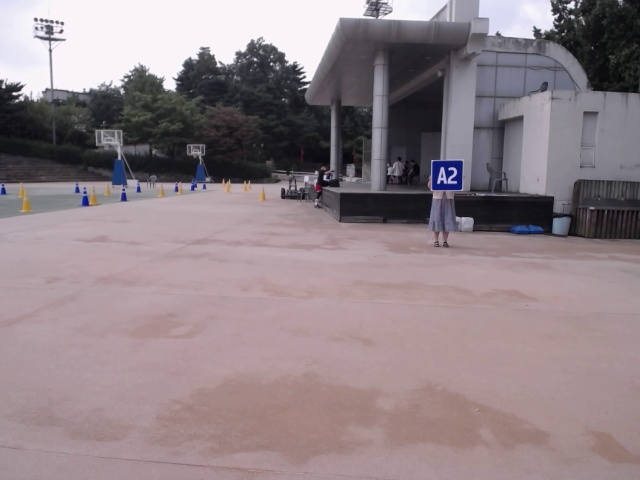delivery_a2: (431, 160, 463, 191)
